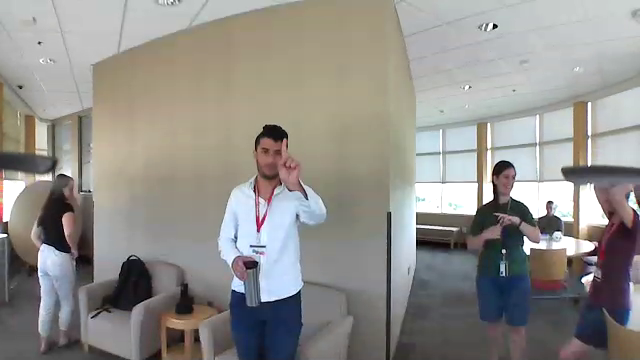up: (274, 134, 306, 189)
